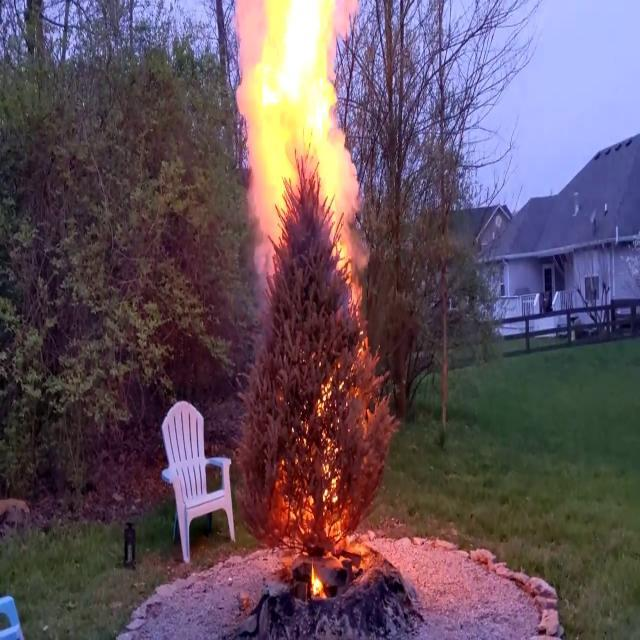Fire: (238, 0, 360, 274), (276, 372, 354, 592), (308, 561, 328, 602)
